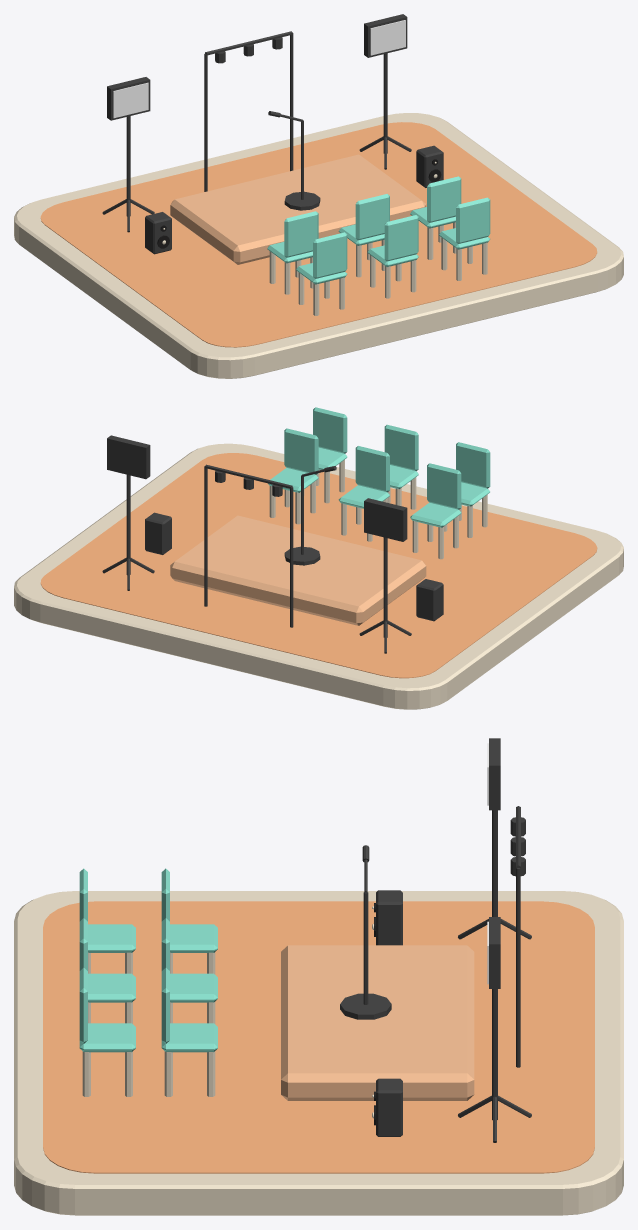
3 views of the same model, one above another, from view 1: azimuth 30°, elevation 25°; view 2: azimuth 150°, elevation 25°; view 3: azimuth 270°, elevation 25° (orthographic). The views are drawn at different scales.
Parts seen in each view (by area): view 1: COM-02 Floor Surface, COM-01 Rounded Base Direct, Low stage, Backrest.004, Backrest.003, Backrest.005, Backrest.001, Backrest, Backrest.002, Diffuser.001, Diffuser, Enclosure (+6 smaller); view 2: COM-02 Floor Surface, COM-01 Rounded Base Direct, Low stage, Light panel, Light panel.001, Backrest, Backrest.001, Backrest.002, Backrest.003, Backrest.005, Backrest.004, Enclosure (+12 smaller); view 3: COM-02 Floor Surface, COM-01 Rounded Base Direct, Low stage, Enclosure.001, Enclosure, Seat.005, Seat.002, Seat.001, Seat.004, Seat, Seat.003, Base (+7 smaller).
Part boxes in pixels (bbox=[...]): COM-02 Floor Surface: bbox=[40, 122, 597, 347]; COM-01 Rounded Base Direct: bbox=[14, 113, 623, 378]; Low stage: bbox=[170, 154, 426, 264]; Backrest.004: bbox=[384, 215, 418, 261]; Backrest.003: bbox=[313, 232, 347, 278]; Backrest.005: bbox=[456, 197, 490, 243]; Backrest.001: bbox=[355, 194, 389, 240]; Backrest: bbox=[284, 211, 318, 257]; Backrest.002: bbox=[427, 176, 461, 222]; Diffuser.001: bbox=[370, 20, 405, 55]; Diffuser: bbox=[113, 82, 148, 118]; Enclosure: bbox=[145, 212, 171, 254]; COM-02 Floor Surface: bbox=[40, 453, 597, 678]; COM-01 Rounded Base Direct: bbox=[14, 443, 623, 709]; Low stage: bbox=[170, 515, 426, 625]; Light panel: bbox=[364, 498, 407, 541]; Light panel.001: bbox=[107, 435, 150, 479]; Backrest: bbox=[427, 463, 461, 509]; Backrest.001: bbox=[355, 446, 389, 492]; Backrest.002: bbox=[284, 428, 318, 474]; Backrest.003: bbox=[456, 442, 490, 488]; Backrest.005: bbox=[313, 407, 347, 453]; Backrest.004: bbox=[384, 424, 418, 471]; Enclosure: bbox=[416, 579, 443, 621]; COM-02 Floor Surface: bbox=[43, 901, 594, 1173]; COM-01 Rounded Base Direct: bbox=[14, 891, 623, 1215]; Low stage: bbox=[281, 945, 474, 1100]; Enclosure.001: bbox=[376, 1078, 402, 1136]; Enclosure: bbox=[376, 890, 402, 945]; Seat.005: bbox=[79, 1023, 135, 1052]; Seat.002: bbox=[161, 1023, 217, 1052]; Seat.001: bbox=[170, 973, 217, 1002]; Seat.004: bbox=[88, 973, 135, 1002]; Seat: bbox=[170, 924, 217, 952]; Seat.003: bbox=[88, 924, 135, 952]; Base: bbox=[340, 993, 391, 1019].
Bounding box in the file's own units: 6 × 2.19 × 5.2.
1 material, 1 textured.
